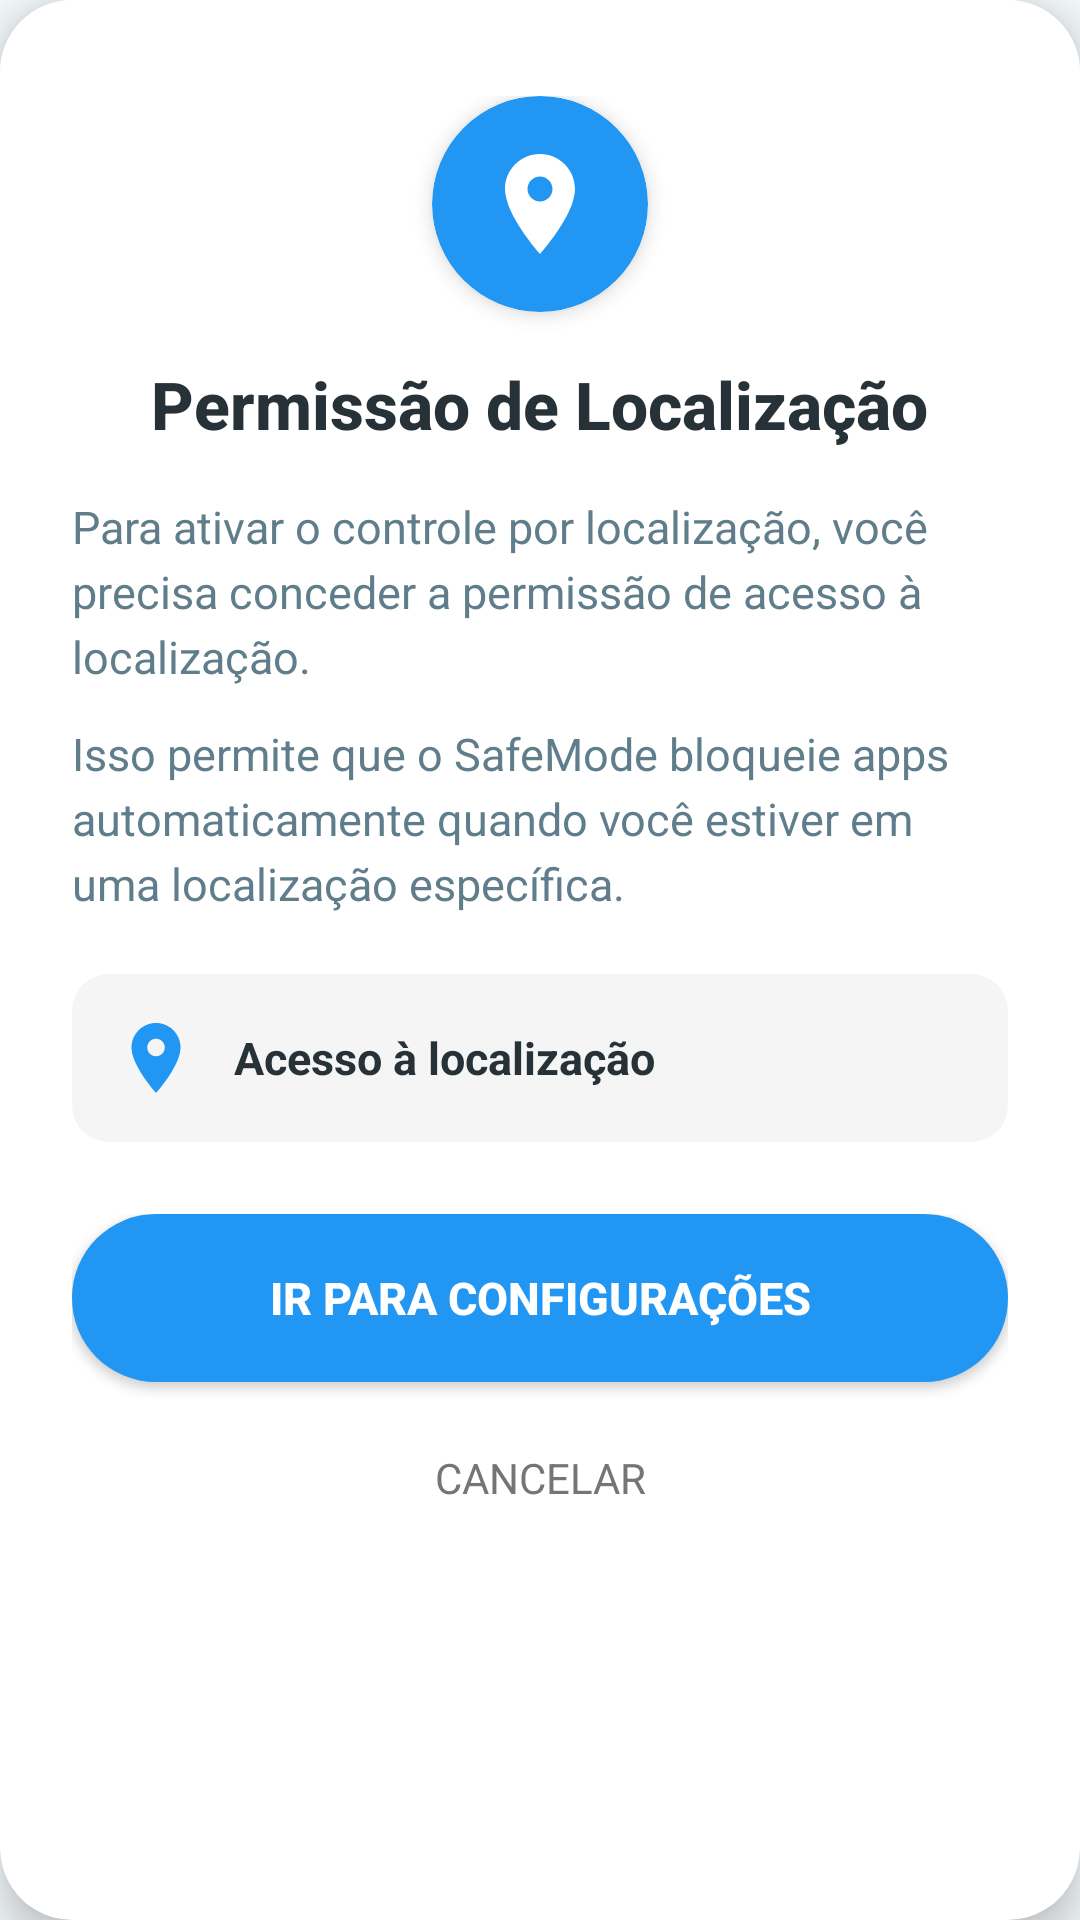

Point at icon controls on the screen. Image size 1080×1920, points as [x,y].
location: [540,204], [156,1058]
